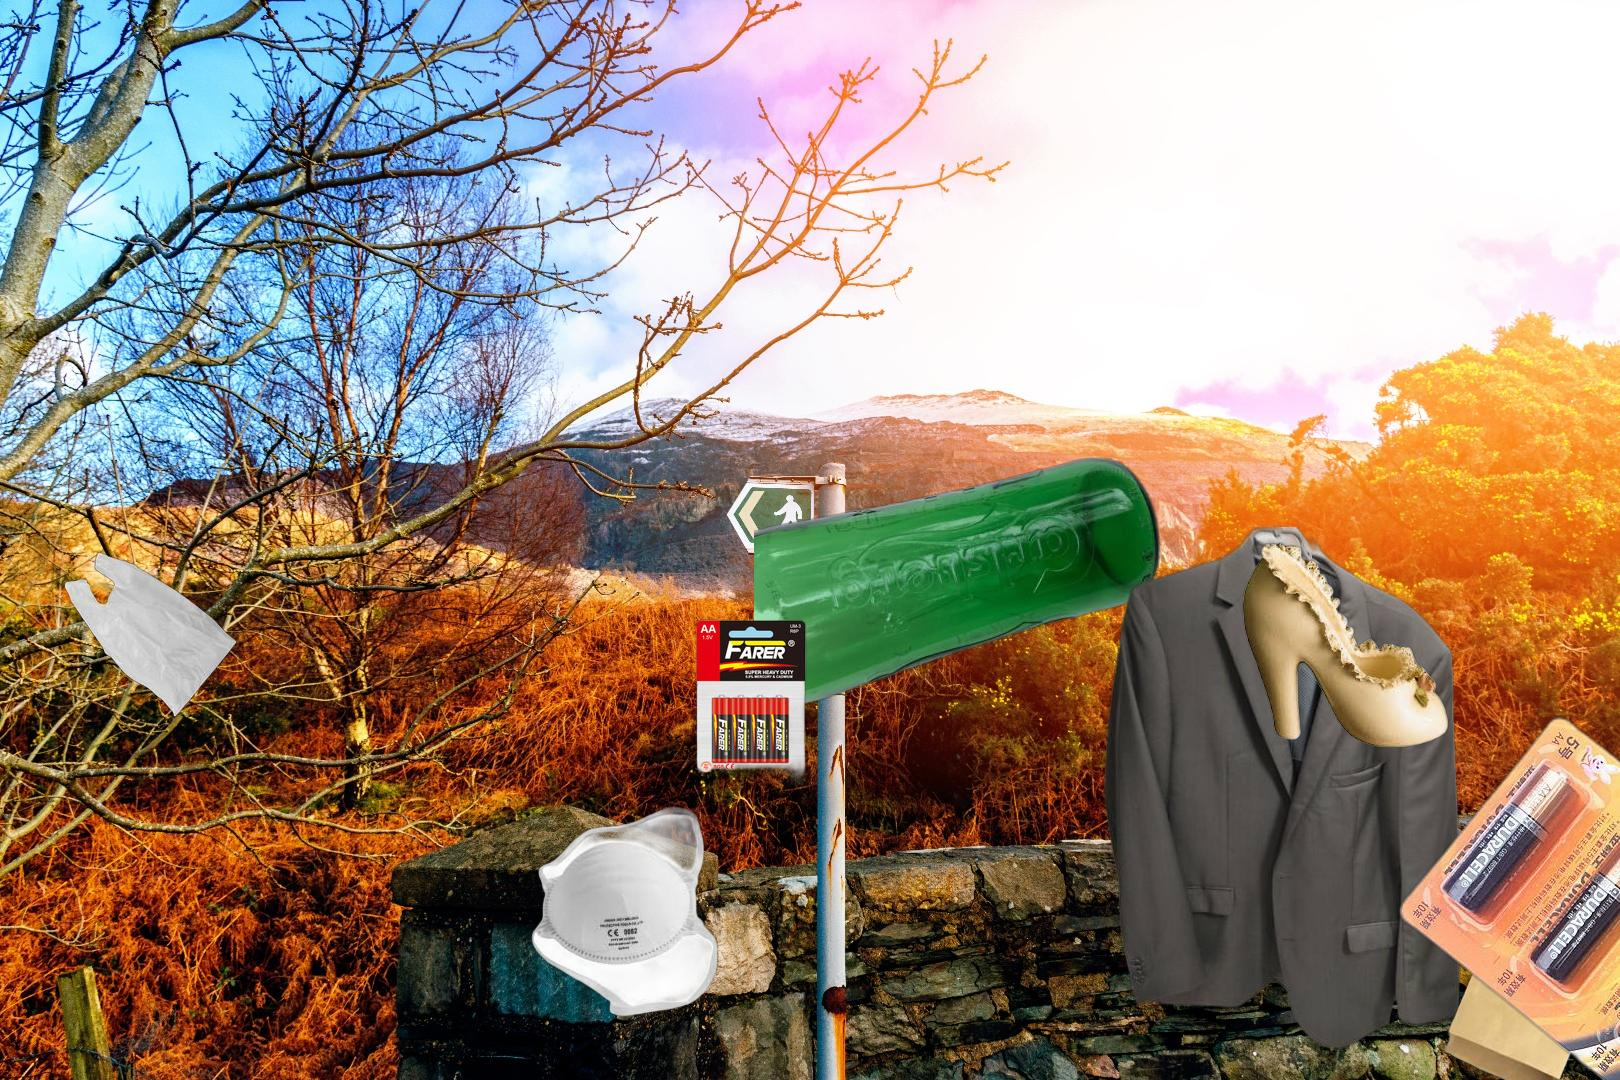battery: (1397, 712, 1620, 1080), (693, 617, 810, 803)
clothes: (1100, 527, 1465, 1053)
glass: (755, 454, 1164, 710)
paper-bag: (1415, 845, 1620, 1080)
plastic-bag: (61, 548, 240, 720)
shoes: (1240, 540, 1452, 761)
trash: (513, 798, 734, 1019)
